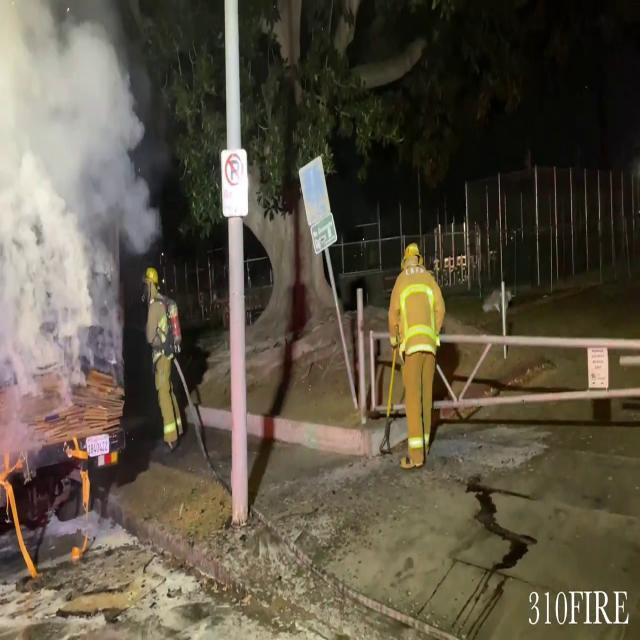Smoke: (1, 1, 158, 441)
